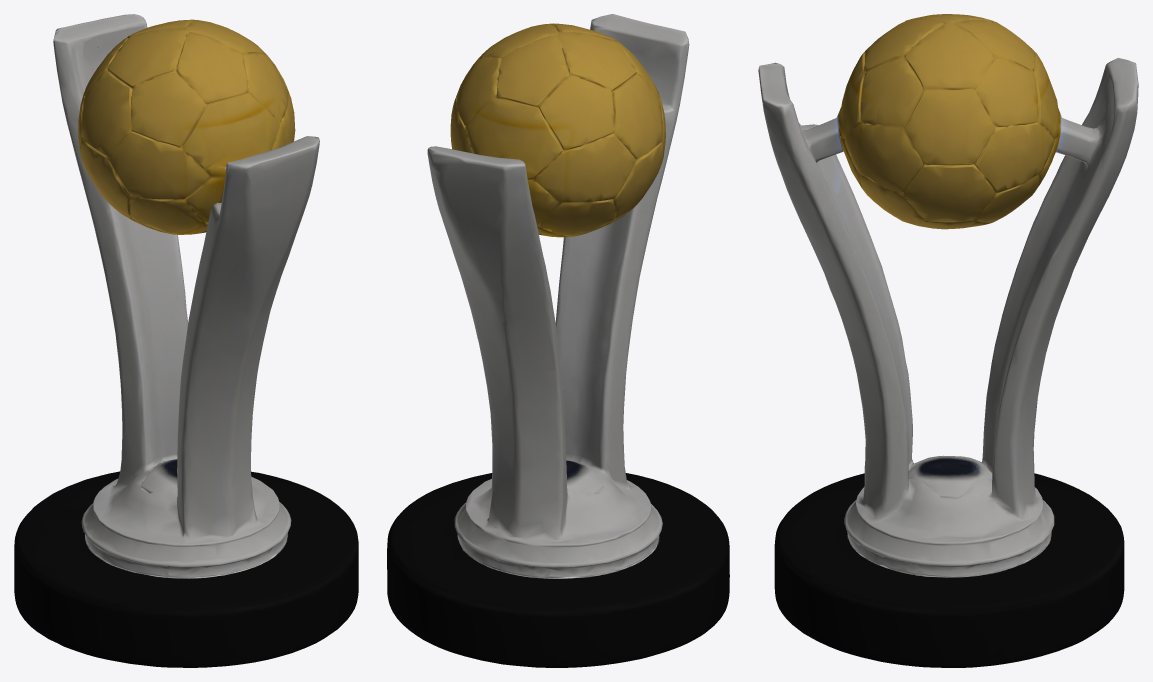
The model's file is nova-trophy.glb.
3 renders of one model, left to right at view 1: azimuth 30°, elevation 25°; view 2: azimuth 150°, elevation 25°; view 3: azimuth 270°, elevation 25°, orthographic.
Parts seen in each view (by area): view 1: tripo_node_8b439a13-c182-4ddd-b62b-a3c223116157; view 2: tripo_node_8b439a13-c182-4ddd-b62b-a3c223116157; view 3: tripo_node_8b439a13-c182-4ddd-b62b-a3c223116157.
Part boxes in pixels (left/top/right/bottom): tripo_node_8b439a13-c182-4ddd-b62b-a3c223116157: left=14, top=14, right=358, bottom=667; tripo_node_8b439a13-c182-4ddd-b62b-a3c223116157: left=387, top=14, right=729, bottom=667; tripo_node_8b439a13-c182-4ddd-b62b-a3c223116157: left=758, top=14, right=1138, bottom=667.
Bounding box in the file's own units: 0.5539 × 1 × 0.6009.
Materials: 1 (1 with a texture image).
